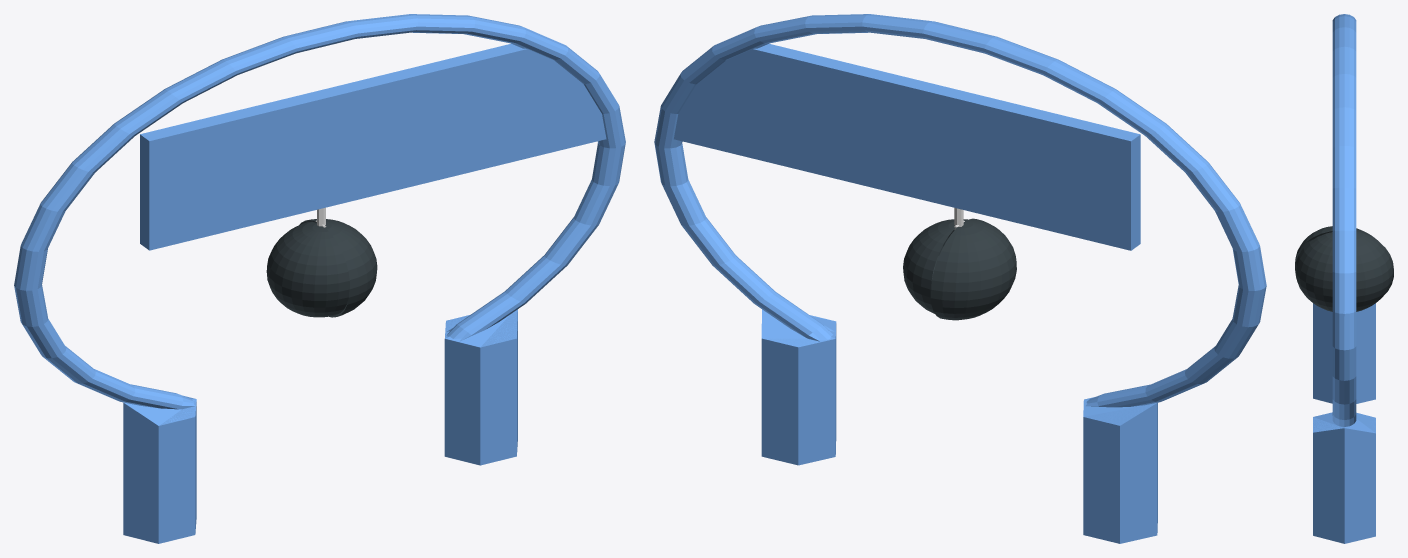
Rendered from SMBGoal.fbx.
The picture shows the model from 3 angles, left to right: view 1: azimuth 30°, elevation 25°; view 2: azimuth 150°, elevation 25°; view 3: azimuth 270°, elevation 25°; orthographic projection. The views are drawn at different scales.
Visible parts, largest first — view 1: Cube, Sphere.001, Sphere; view 2: Cube, Sphere.001, Sphere; view 3: Cube, Sphere, Sphere.001.
Boxes of the visible parts, x1,y1,x2,y2 form: Cube: [14, 14, 625, 543]; Sphere.001: [266, 221, 349, 317]; Sphere: [299, 219, 377, 317]; Cube: [654, 14, 1266, 543]; Sphere.001: [930, 218, 1016, 320]; Sphere: [903, 219, 967, 313]; Cube: [1313, 14, 1375, 543]; Sphere: [1295, 232, 1393, 311]; Sphere.001: [1295, 226, 1393, 296].
Size of the model in its own units: 1879 by 1348 by 303.
